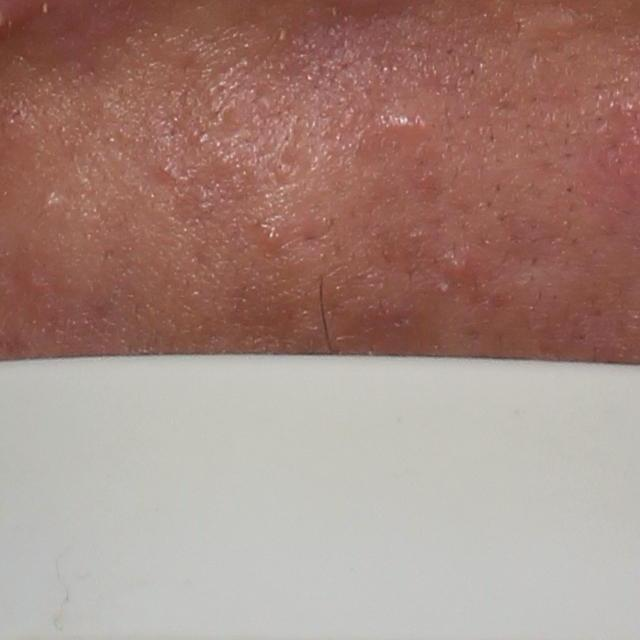comedo: (252, 220, 283, 251)
papule: (378, 95, 435, 147), (446, 249, 475, 283)
